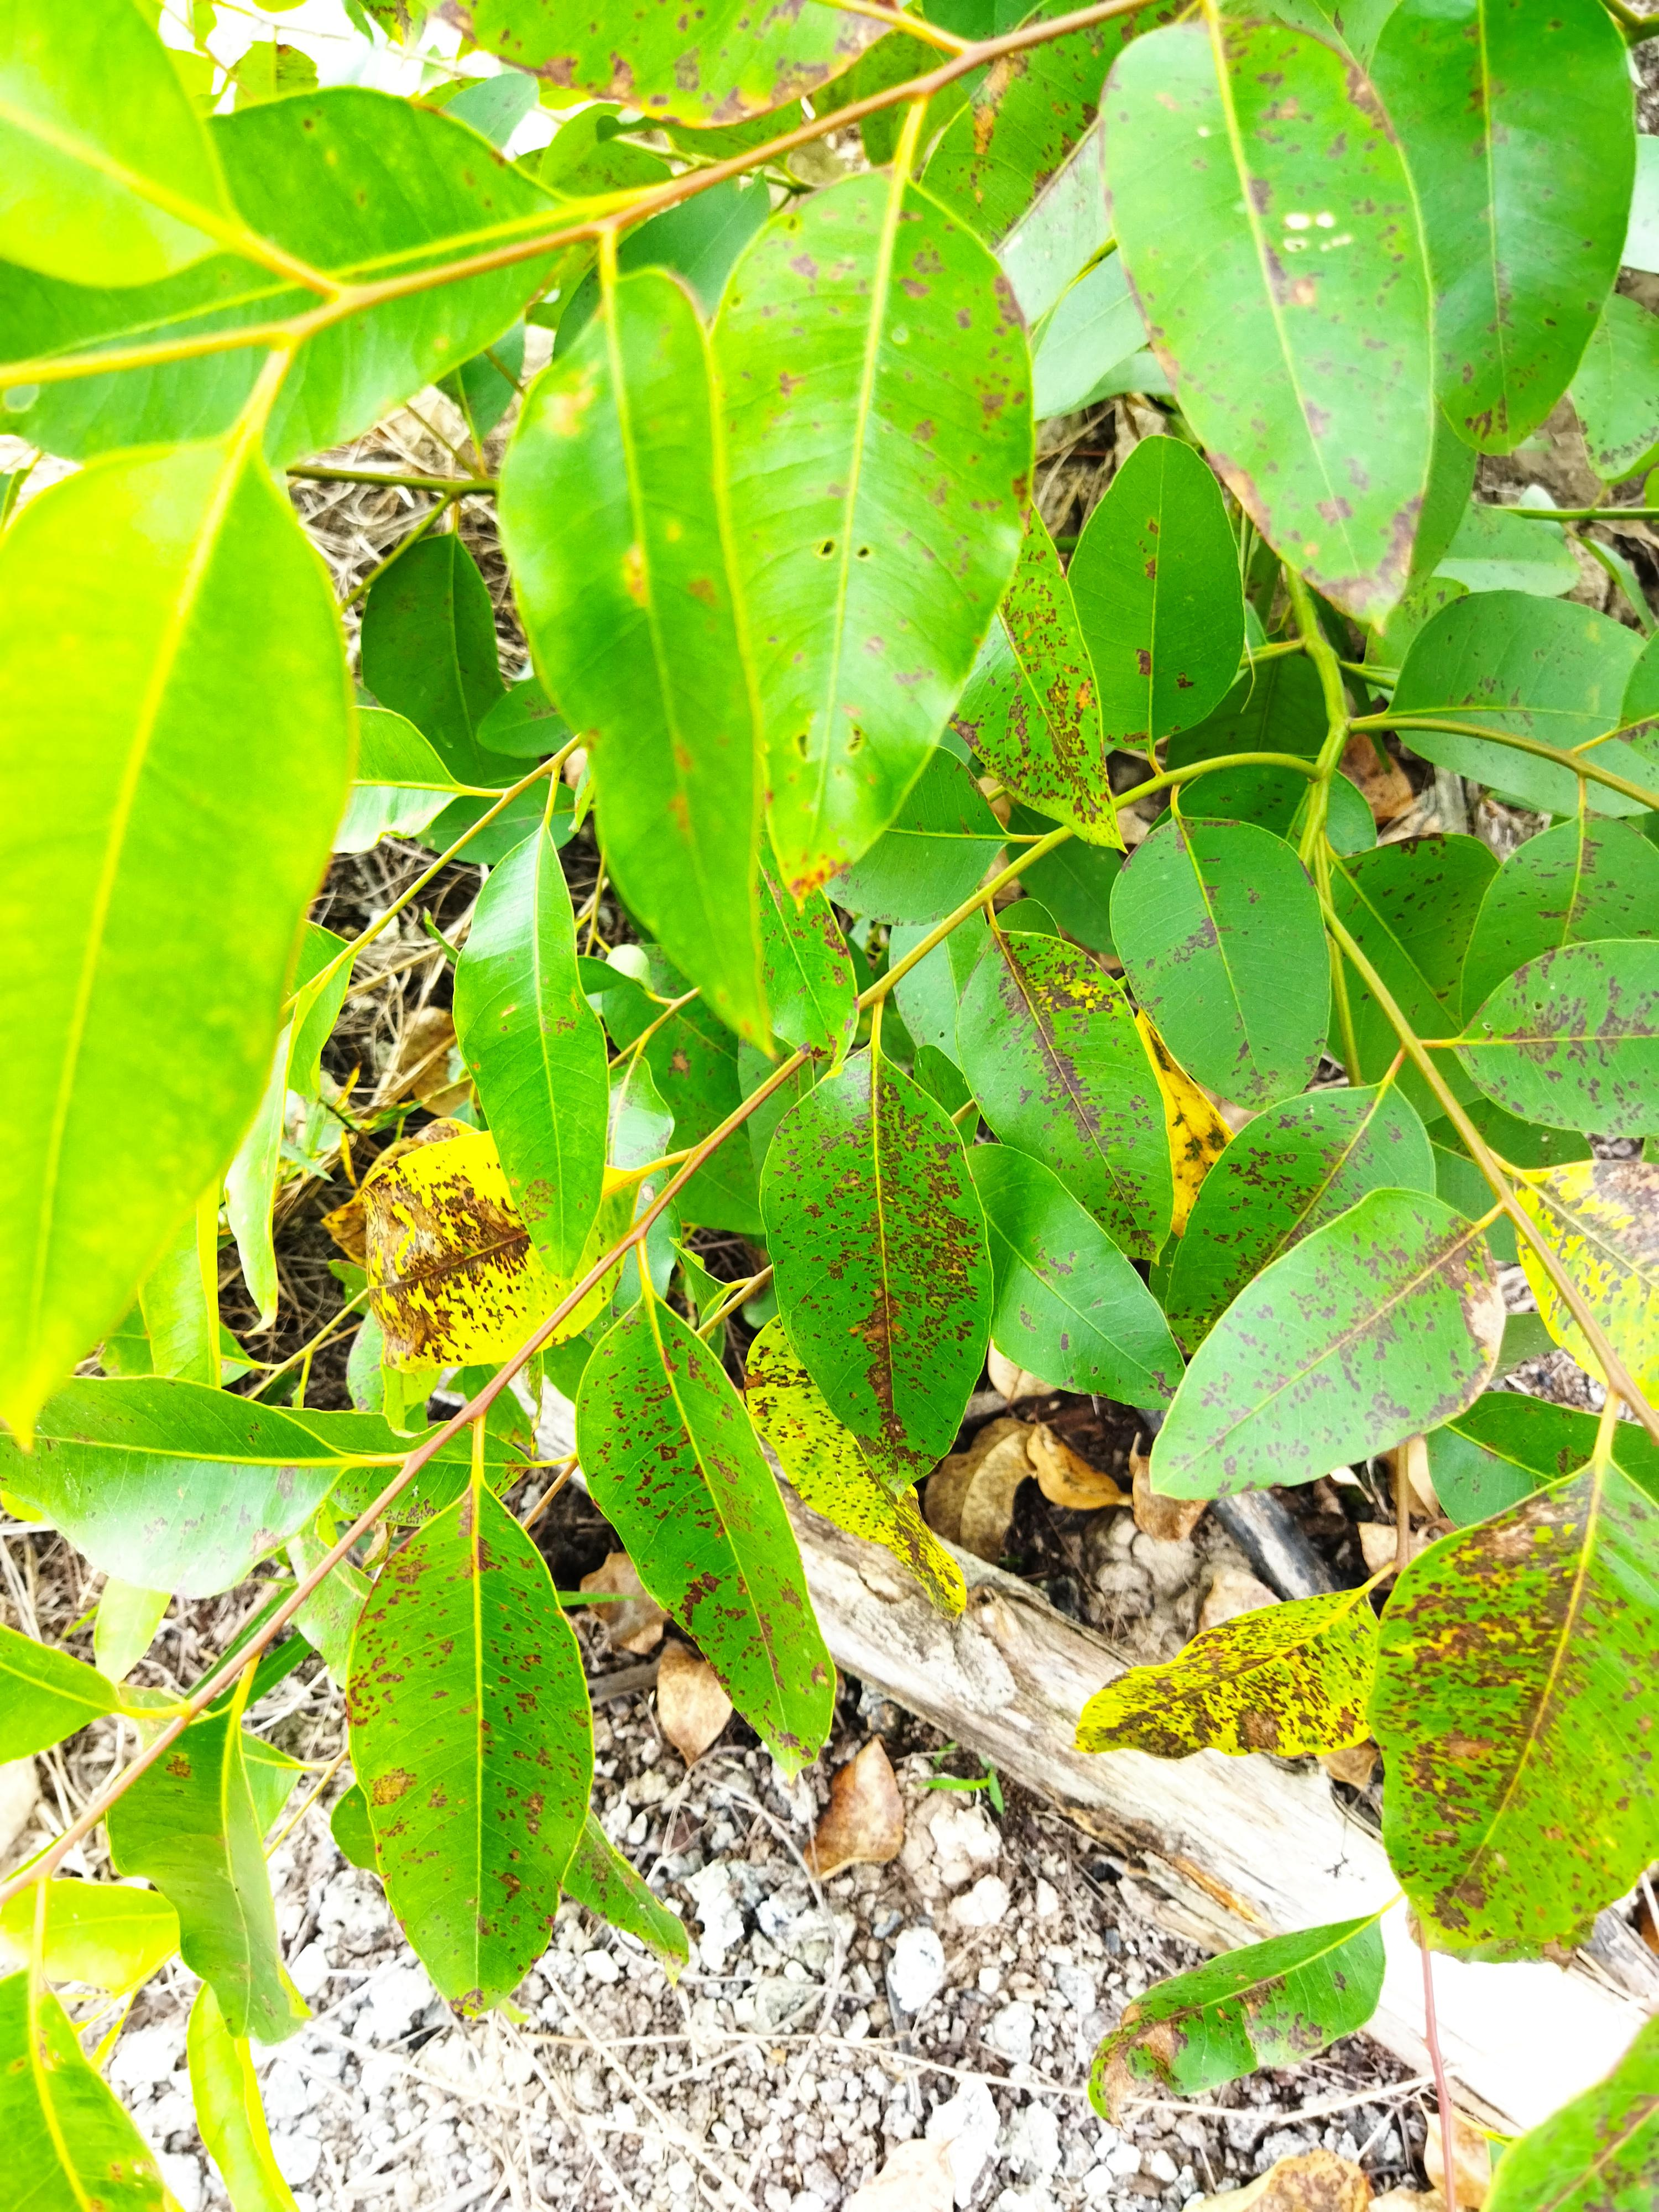Xanthomonas: (356, 1522, 594, 1959), (964, 925, 1208, 1247), (1427, 1467, 1581, 1939), (931, 526, 1129, 862), (582, 1362, 798, 1663), (803, 1096, 979, 1433), (1173, 1096, 1354, 1362), (317, 1162, 551, 1345), (1124, 1599, 1359, 1778), (1539, 1141, 1659, 1402)
